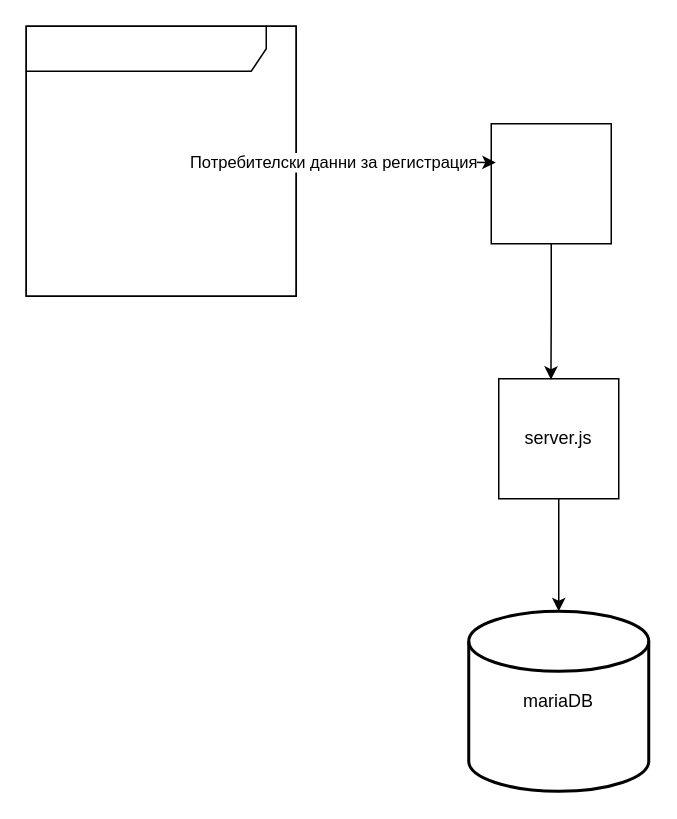
Image size: 677x819. Some labels were removed from this diagram. Each missing label, with the centre of its shape:
"register.js" belongs at (x=550, y=183).
"Странциа за регистрация" belongs at (x=160, y=160).
